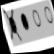correct: (18, 10, 30, 32)
not correct: (1, 5, 23, 44)
